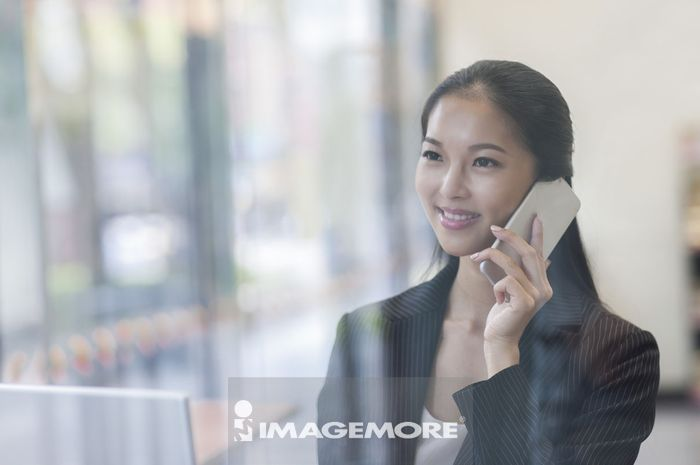phone: (481, 171, 580, 303)
talk: (413, 132, 582, 357)
